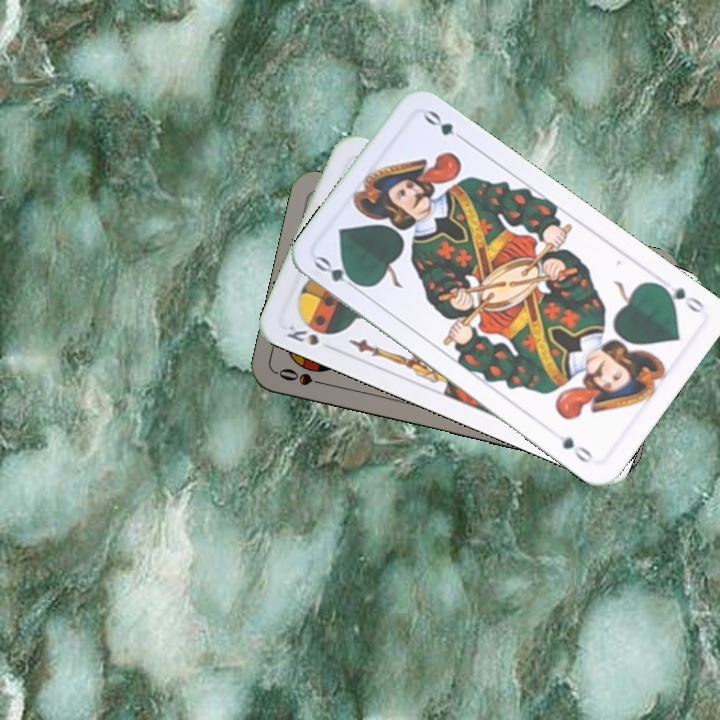GO: (310, 252, 366, 295), (652, 279, 708, 316)
SK: (282, 318, 335, 348)
SO: (274, 364, 333, 389)
